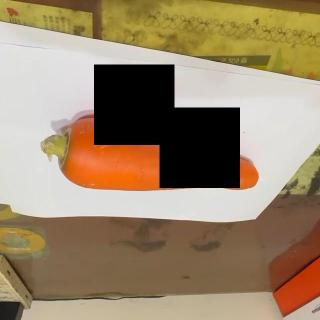carrot: (39, 116, 259, 194)
